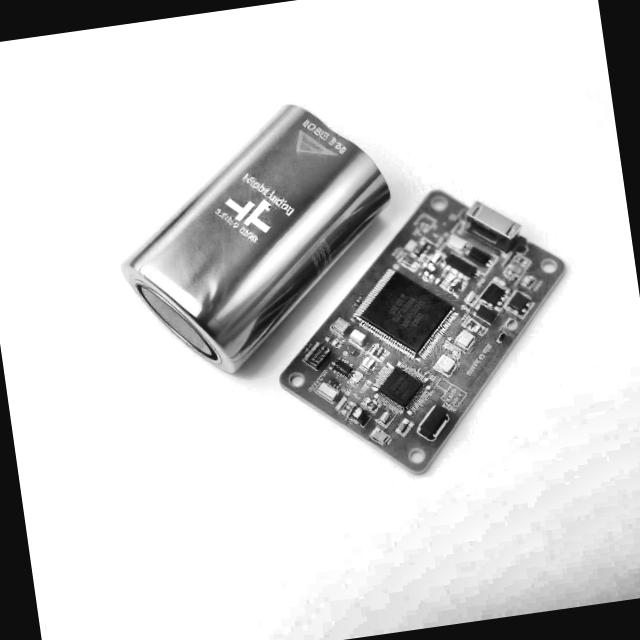Battery: (98, 89, 412, 388)
PCB: (260, 174, 590, 494)
